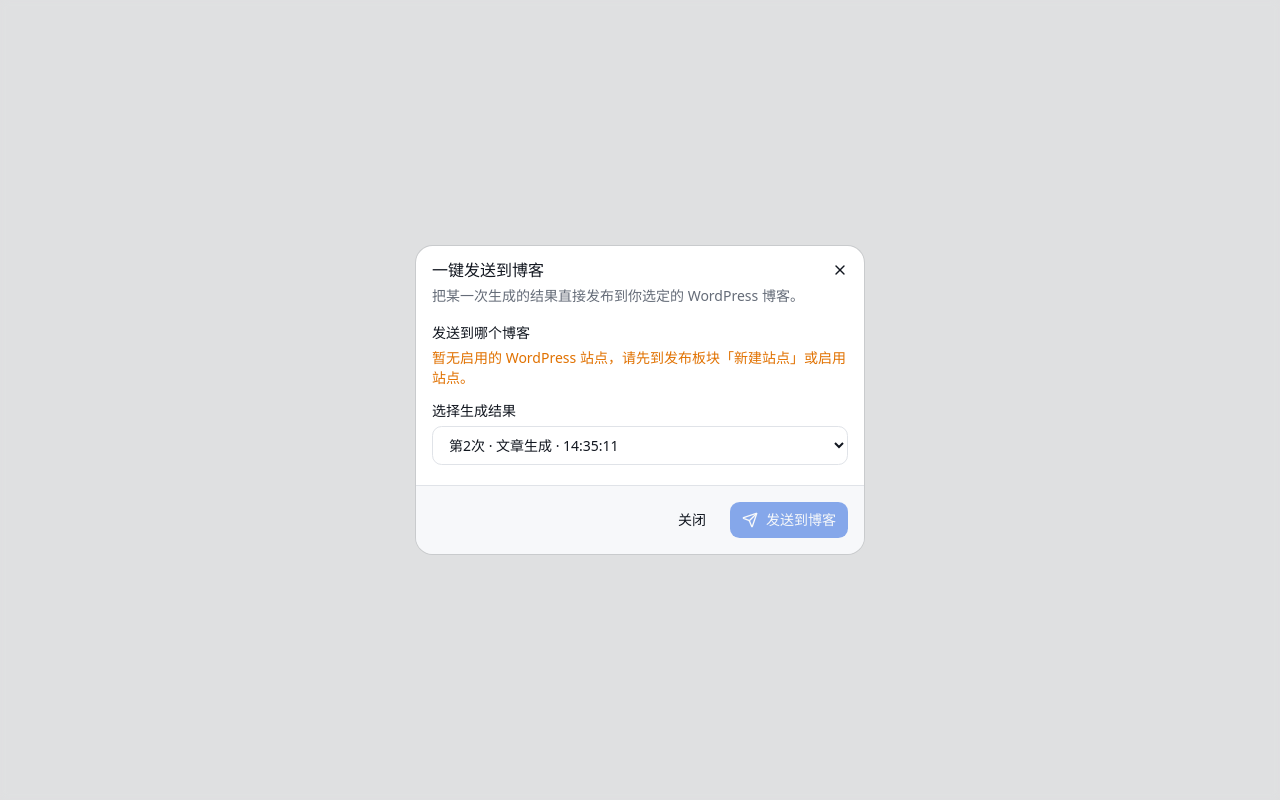
Test: BlogPublishDialog › 发送：POST /api/wordpress/publish 携带所选生成结果与站点，成功后展示链接
Check: the button with test id "blog-publish-send" is shown, box [730,502,848,538]
Select "第1次 · 文章生成 · 14:32:05" in the dropdown labelled "选择生成结果" at (640, 446), box [432,426,848,465]
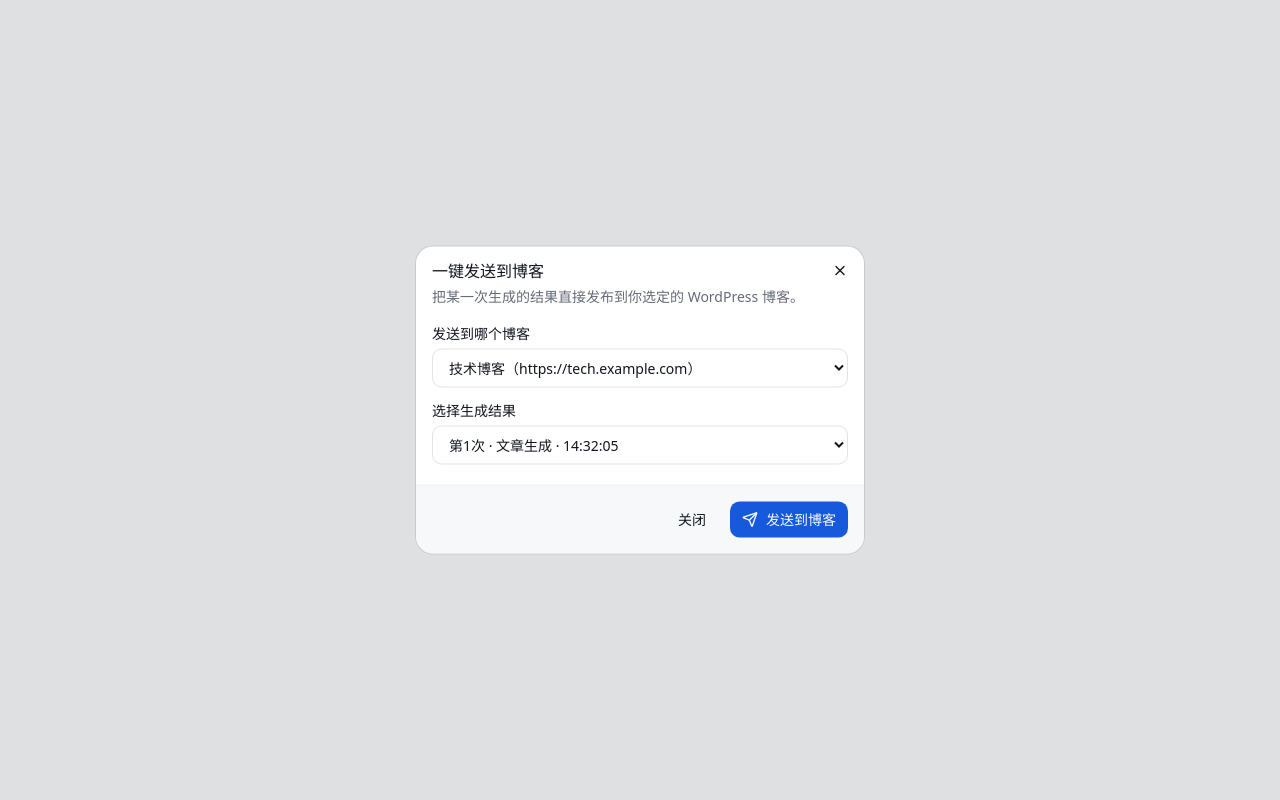
Click the button with test id "blog-publish-send".
click(789, 520)  # box [730,502,848,538]
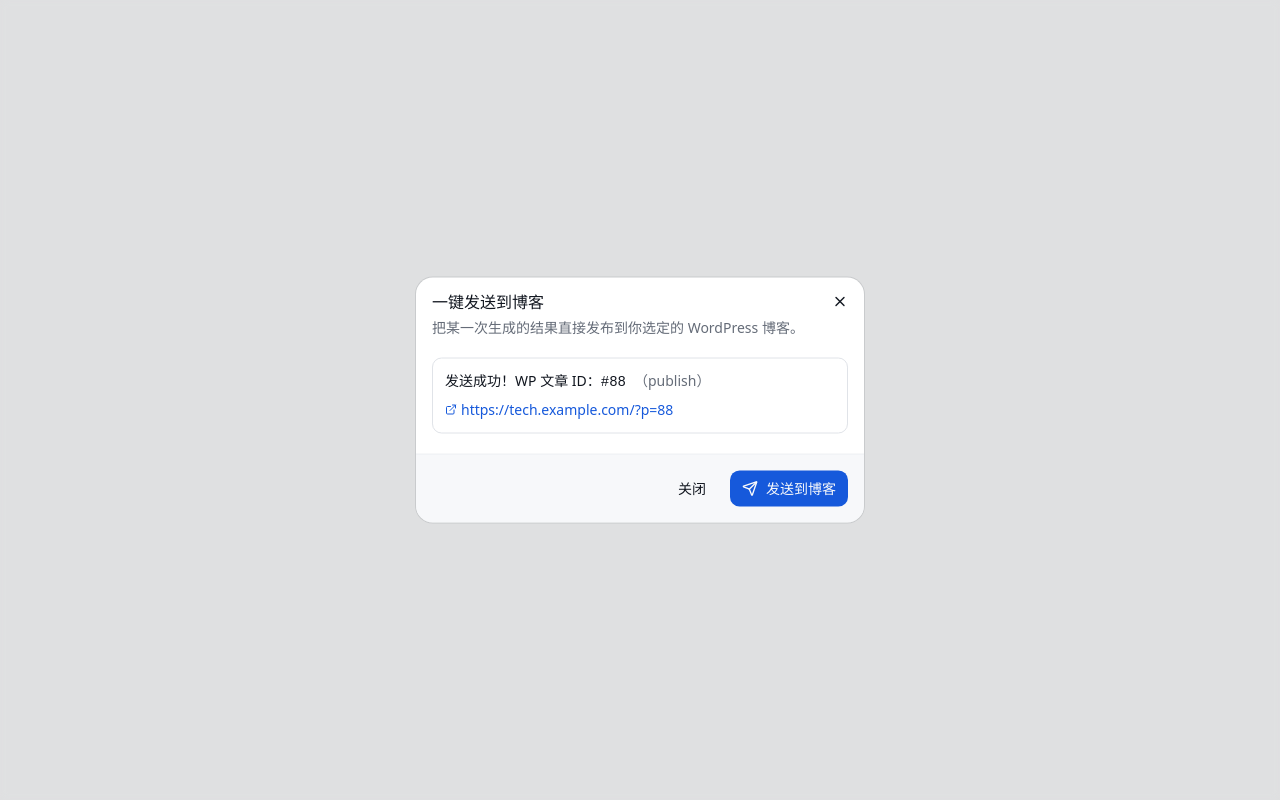
Check: the link with test id "blog-publish-link" is shown, box [445,400,673,420]
